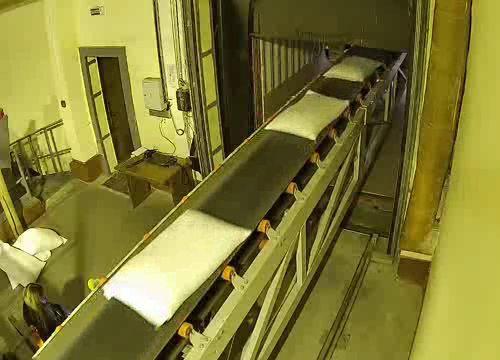bag: (91, 206, 266, 331), (260, 87, 355, 147), (321, 51, 394, 82)
